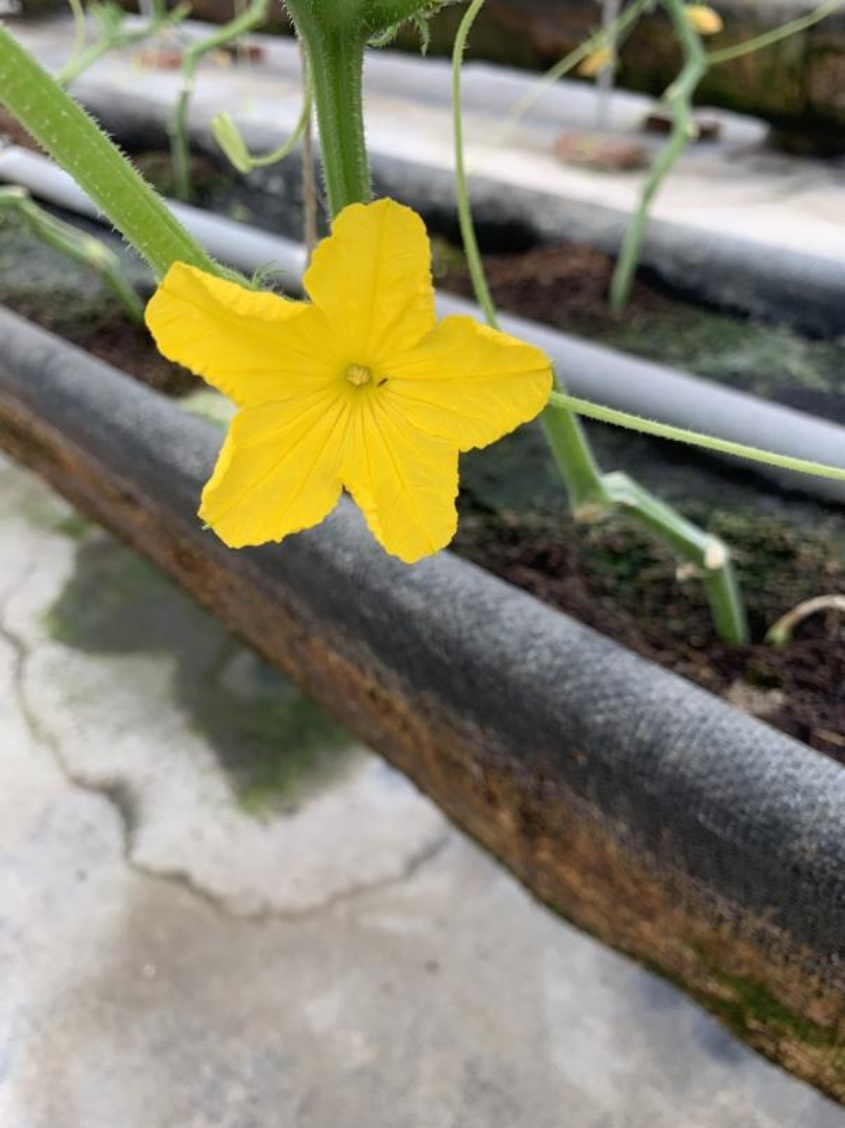mature: (141, 184, 555, 565)
